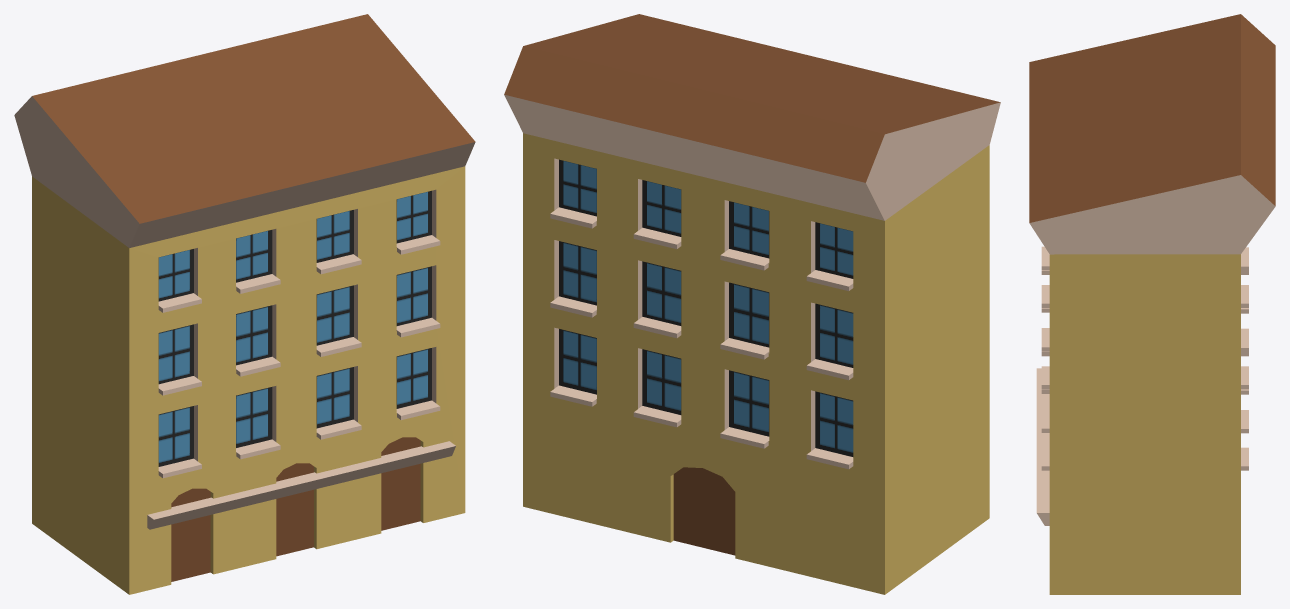
Rendered from BigYellow.obj.
The picture shows the model from 3 angles, left to right: view 1: azimuth 30°, elevation 25°; view 2: azimuth 150°, elevation 25°; view 3: azimuth 270°, elevation 25°; orthographic projection. The views are drawn at different scales.
Visible parts, largest first — view 1: DuzyZwyklyZOLTY; view 2: DuzyZwyklyZOLTY; view 3: DuzyZwyklyZOLTY.
Boxes of the visible parts, left/top/right/bottom form: DuzyZwyklyZOLTY: left=14, top=14, right=475, bottom=594; DuzyZwyklyZOLTY: left=504, top=14, right=1000, bottom=594; DuzyZwyklyZOLTY: left=1029, top=14, right=1275, bottom=594.
Size of the model in its own units: 10.96 by 13.33 by 7.09.
